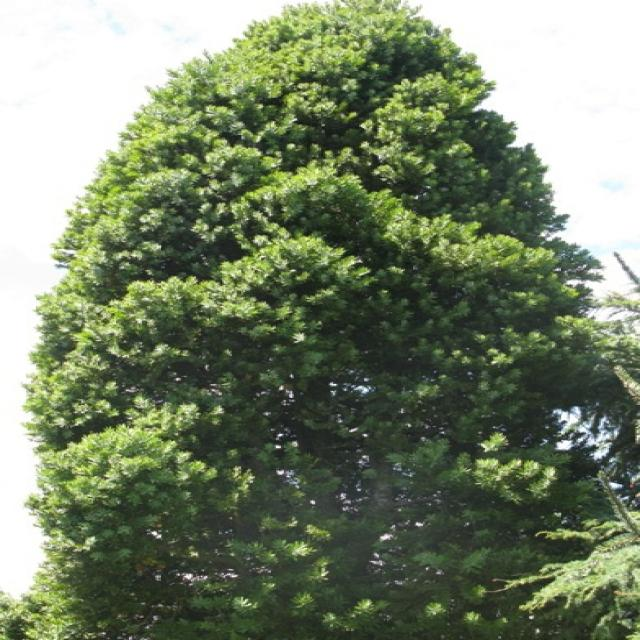Kauri: (31, 0, 608, 640)
